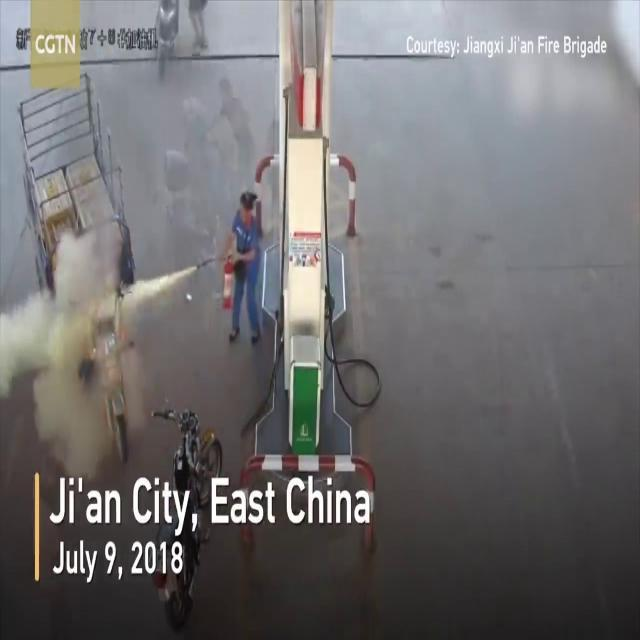Smoke: (0, 207, 130, 451)
